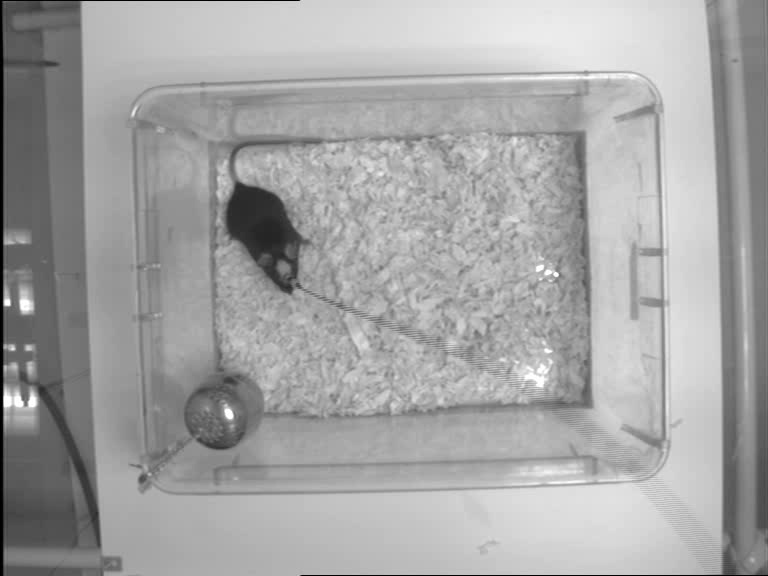mice: (225, 138, 315, 297)
